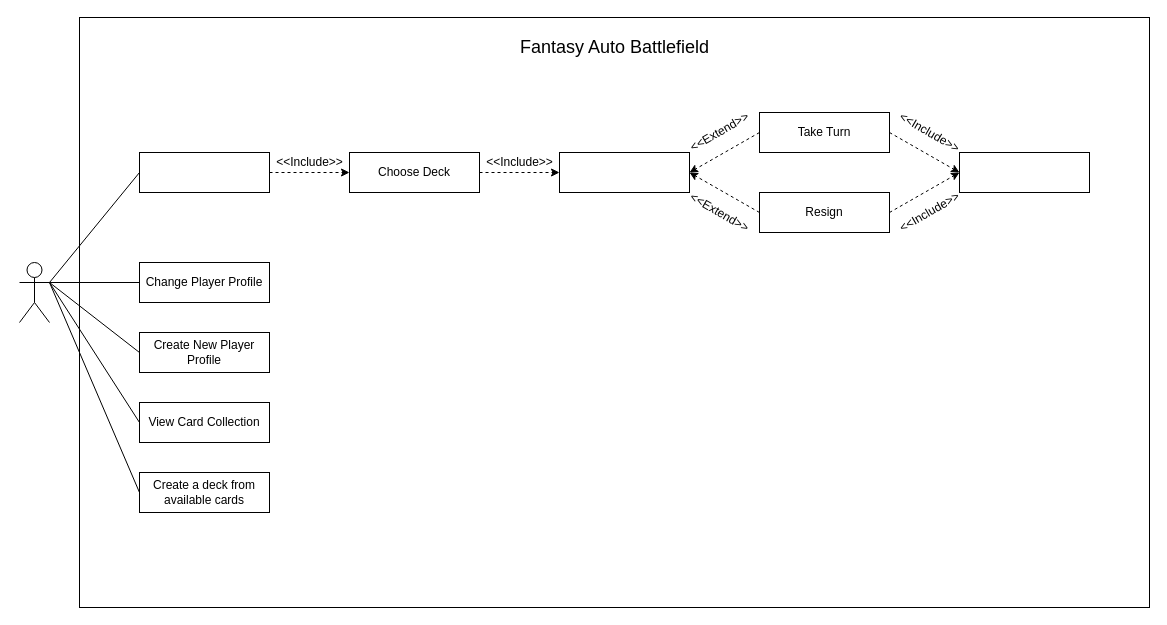
Some shapes in this 1167 by 625 pixel diagram are drawn without their labels. Each missing label, with the centre of its shape:
"End of Duel" belongs at (1024,172).
"Play A Duel" belongs at (204,172).
"Player" belongs at (34,292).
"Start Duel" belongs at (624,172).
